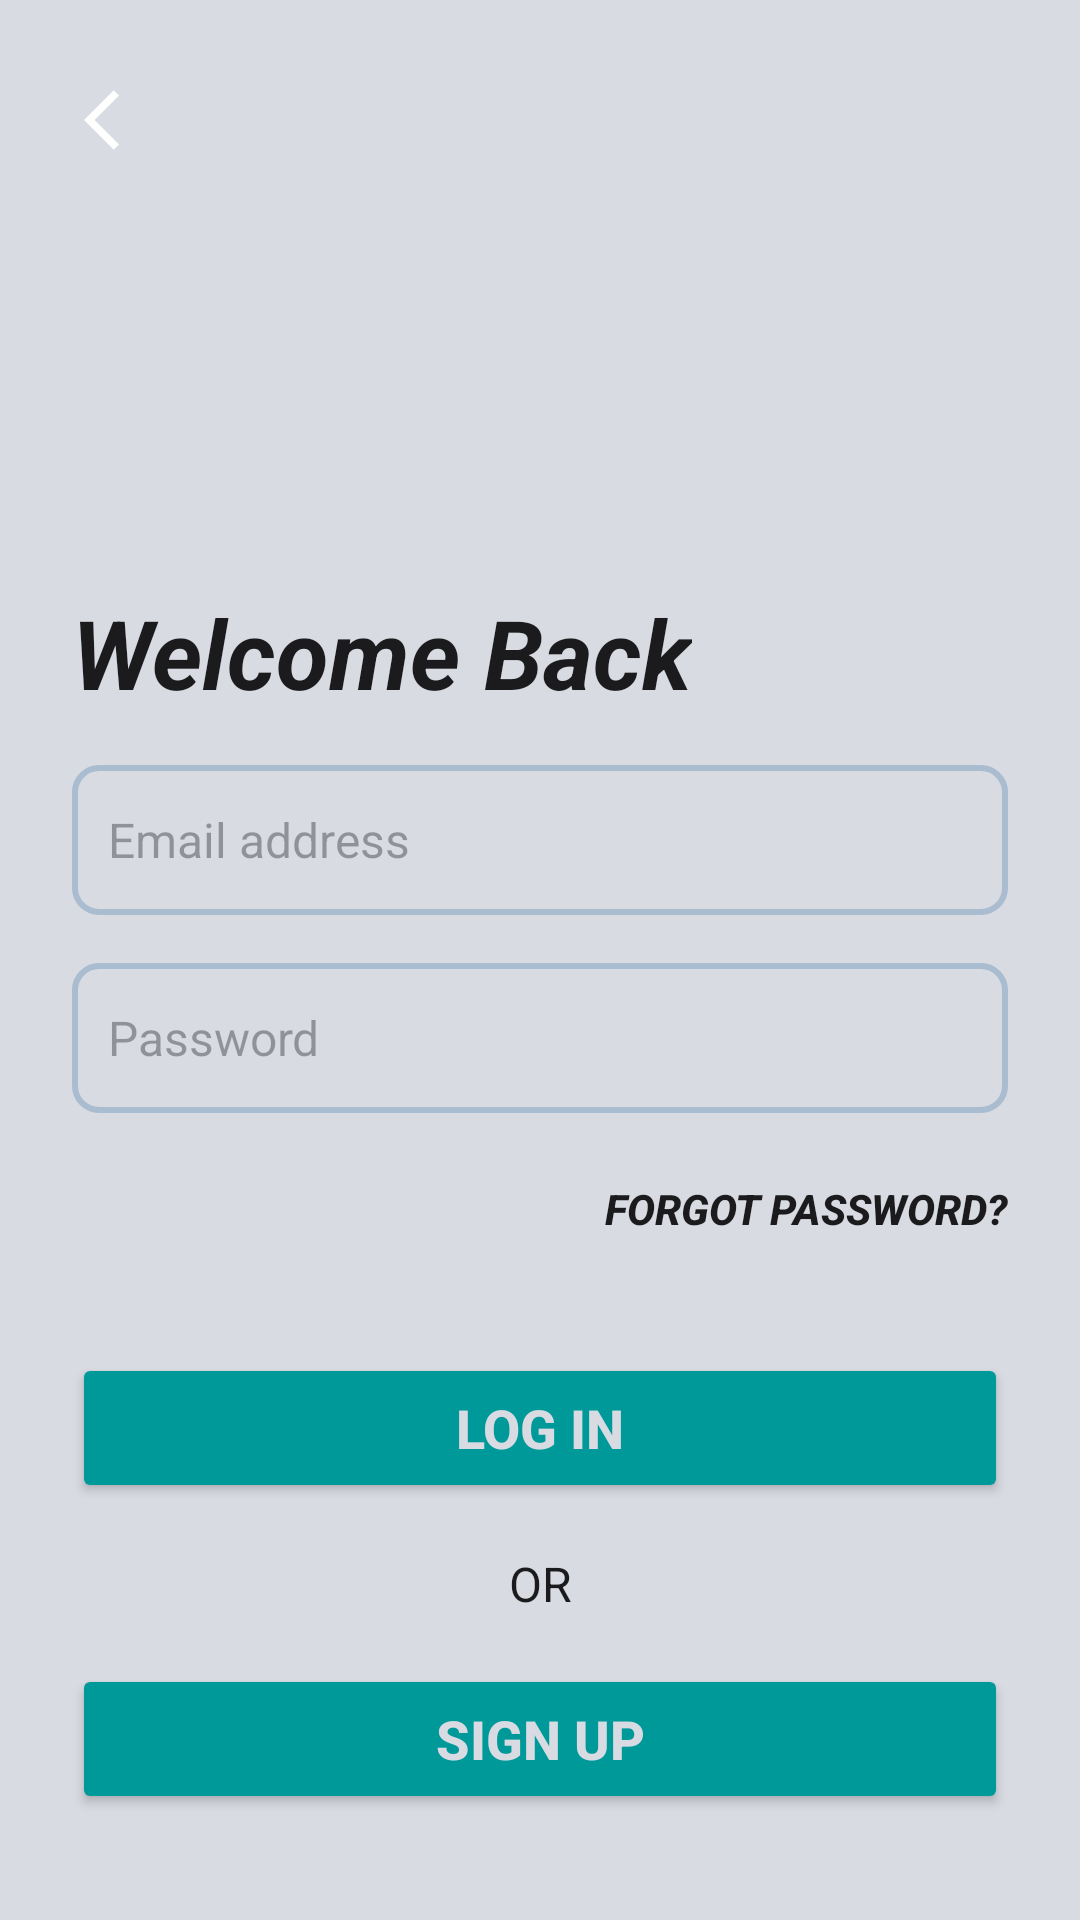

Screen size 1080 x 1920. Icon name, then its box in pixels as (x1, y1, x2, y2):
Back Button: (85, 91, 119, 149)
